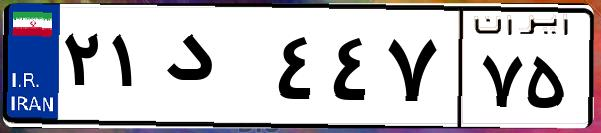1: (110, 28, 158, 98)
2: (57, 26, 110, 100)
4: (270, 28, 330, 110), (330, 28, 385, 110)
5: (525, 38, 570, 115)
7: (385, 28, 445, 110), (475, 38, 525, 113)
د: (158, 20, 270, 120)
